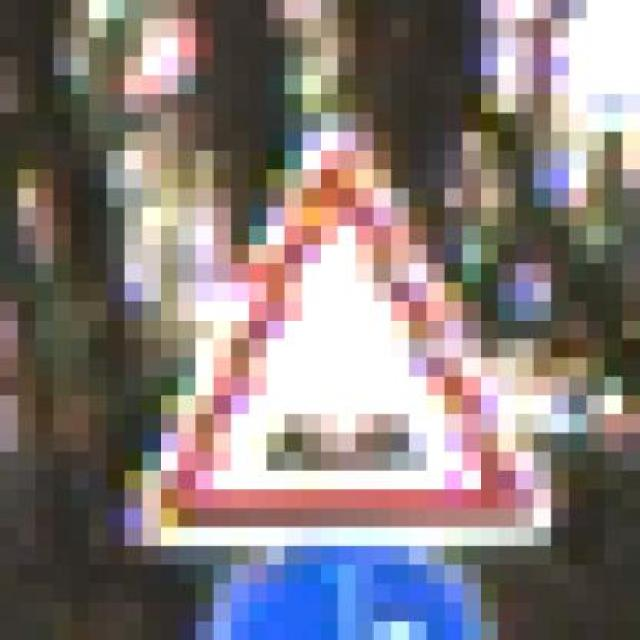Uneven Road: (106, 112, 569, 546)
